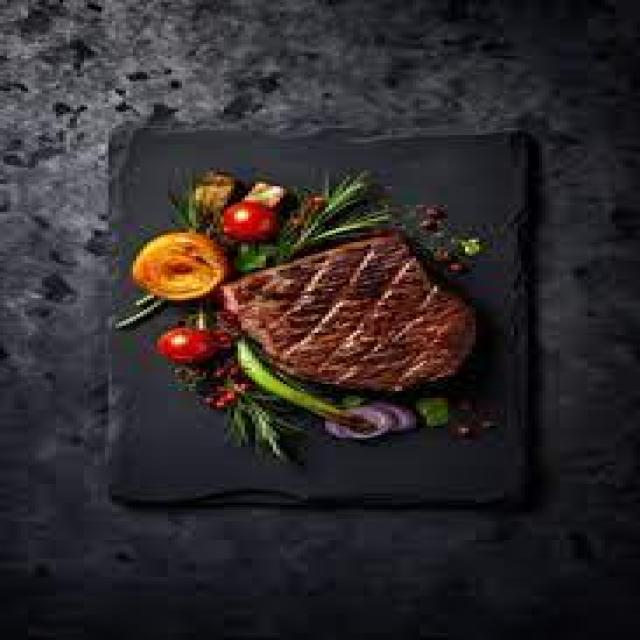Carne: (217, 228, 476, 393)
